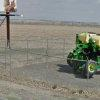Tractor: (62, 26, 100, 82)
